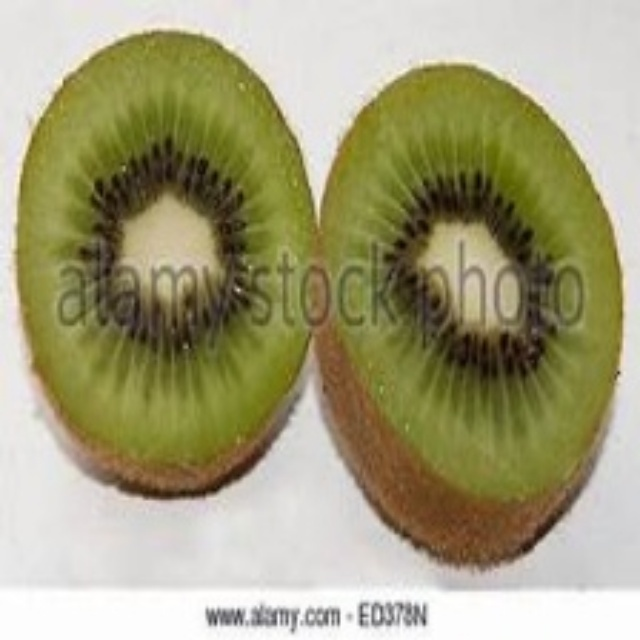kiwi: (321, 60, 615, 575), (19, 41, 308, 497)
